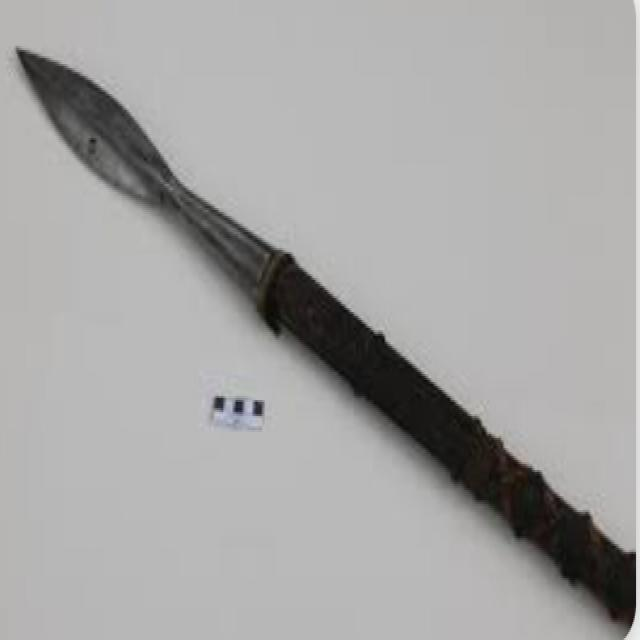spear: (6, 22, 627, 624)
